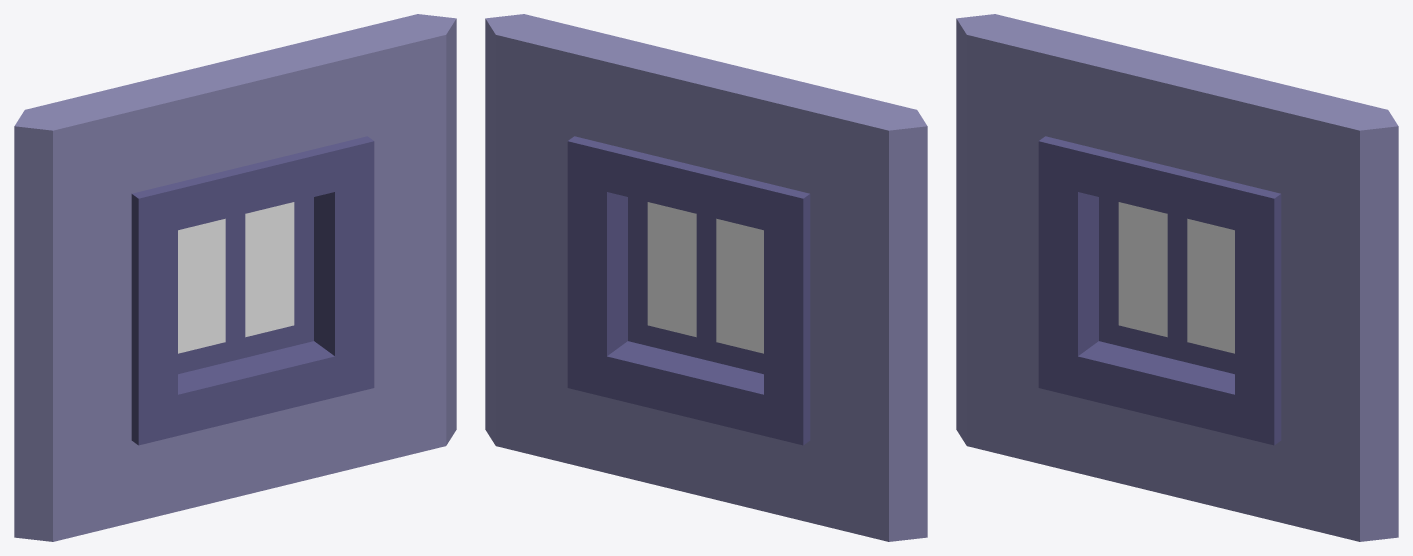
The model's file is window_squareGlass.fbx.
3 views of the same model, side by side, from view 1: azimuth 30°, elevation 25°; view 2: azimuth 150°, elevation 25°; view 3: azimuth 330°, elevation 25° (orthographic).
Visible parts, largest first — view 1: window_squareGlass; view 2: window_squareGlass; view 3: window_squareGlass.
Part boxes in pixels (<box>): window_squareGlass: <box>14,14,456,541</box>; window_squareGlass: <box>485,14,927,541</box>; window_squareGlass: <box>956,14,1398,541</box>.
Bounding box in the file's own units: 11.25 × 10 × 1.85.
